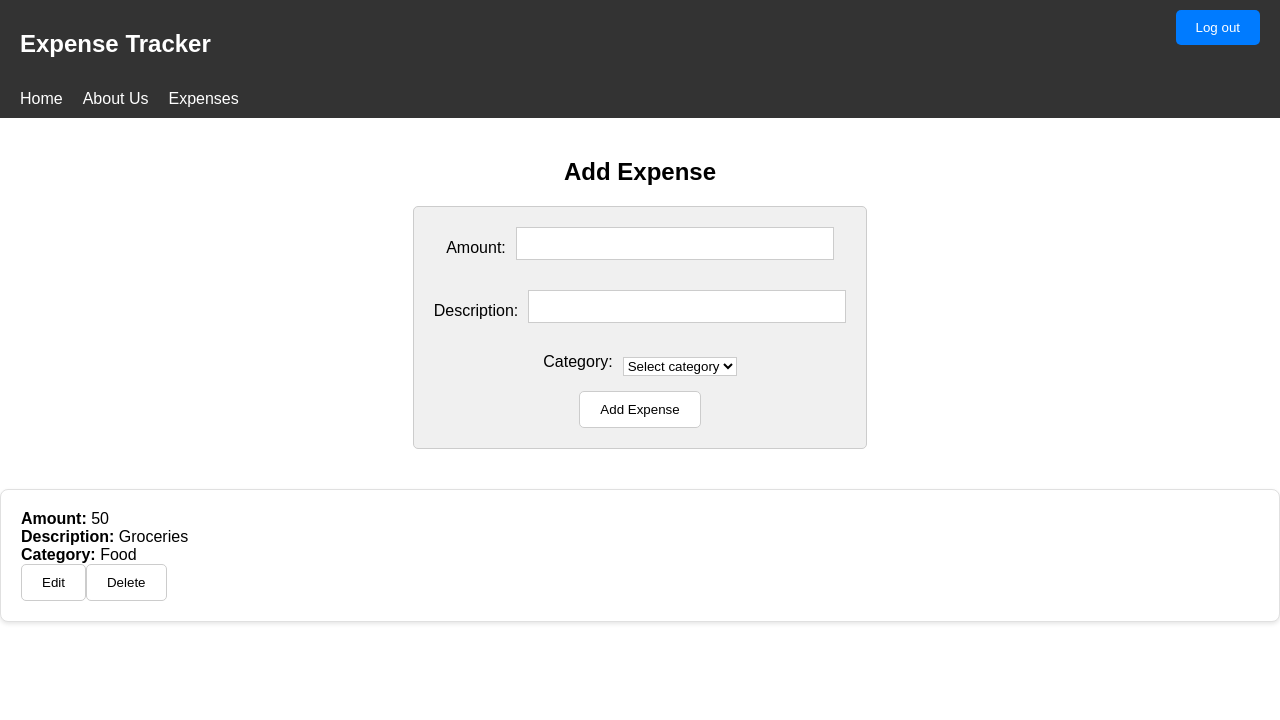
it: Expenses component › edits an existing expense
This screenshot has width=1280, height=720.
Expected: the text "Description: Groceries" is shown, top-left (21, 528), bottom-right (188, 545)
Click the button "Edit" at (54, 582), box top-left (21, 564), bottom-right (86, 601)
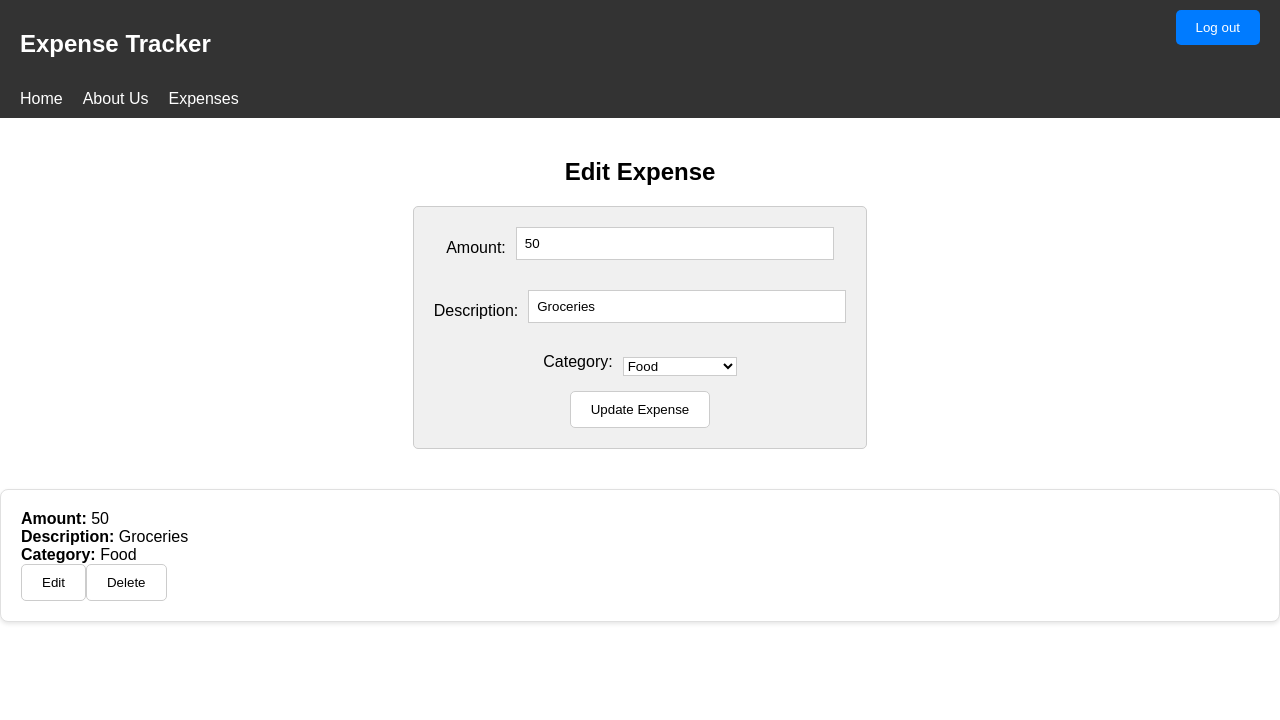
Replace the text in the field labelled "Amount:" with "200" at (675, 243), box top-left (516, 227), bottom-right (834, 260)
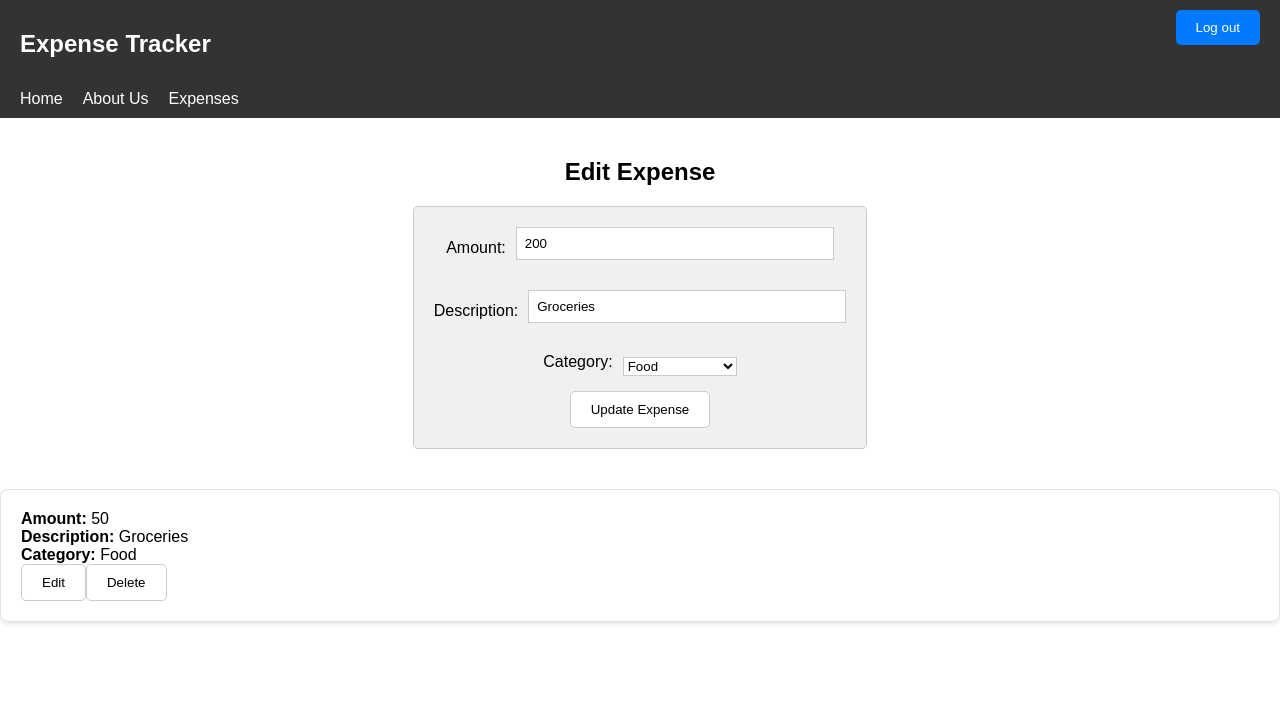
Replace the text in the field labelled "Description:" with "Supermarket" at (687, 306), box top-left (528, 290), bottom-right (846, 323)
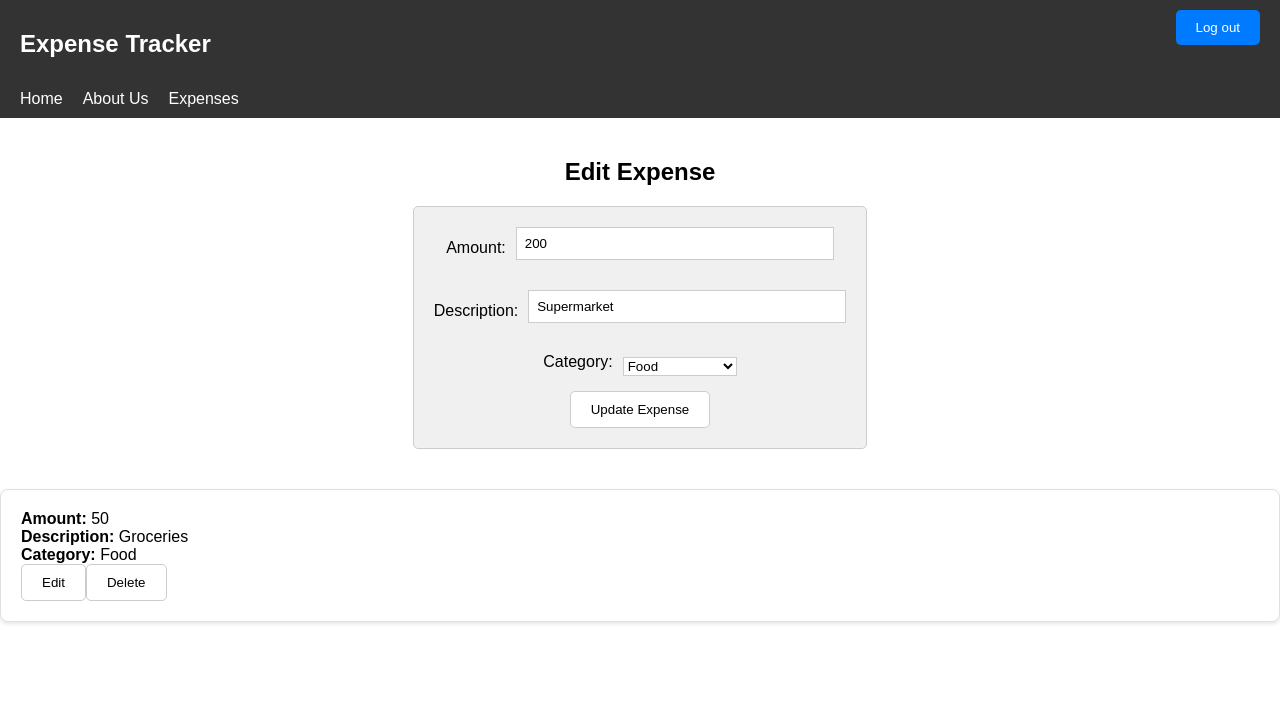
Click the button "Update Expense" at (640, 409), box top-left (570, 391), bottom-right (710, 428)
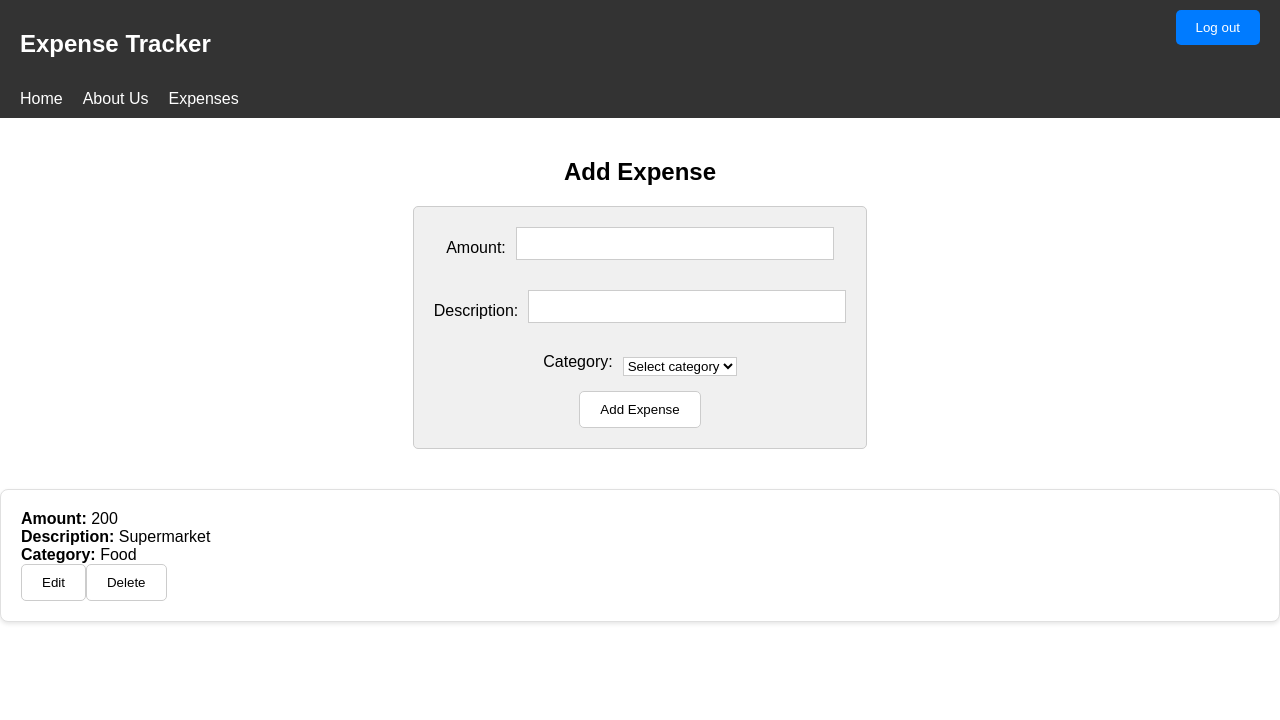
Expected: the text "Description: Supermarket" is shown, top-left (21, 528), bottom-right (210, 545)
